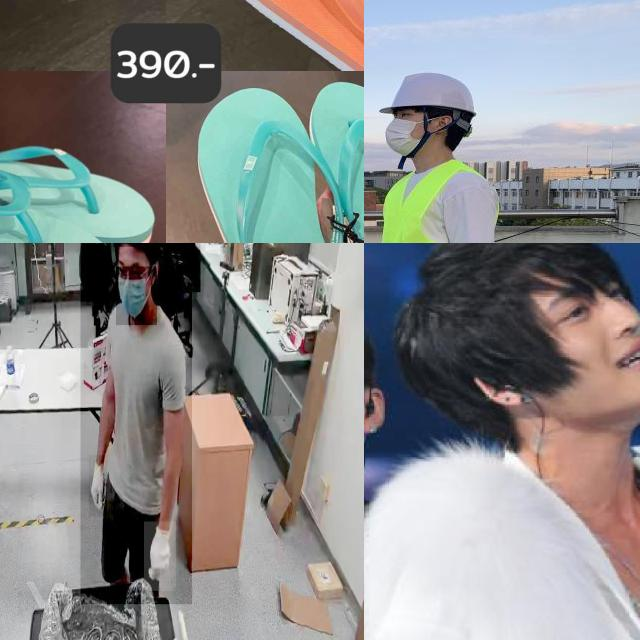No_Ear-Protection: (430, 114, 460, 136)
Sandals: (191, 75, 364, 243), (0, 118, 159, 243)
face_mask: (116, 267, 157, 325)
face_nomask: (526, 266, 640, 402)
hand_glove: (144, 522, 176, 592), (89, 455, 107, 518)
head_helmet: (378, 72, 477, 119)
head_nohelmet: (397, 243, 624, 295)
person: (364, 243, 640, 640), (80, 243, 192, 605), (364, 63, 542, 243), (163, 243, 201, 293)
vest: (380, 160, 498, 243)
